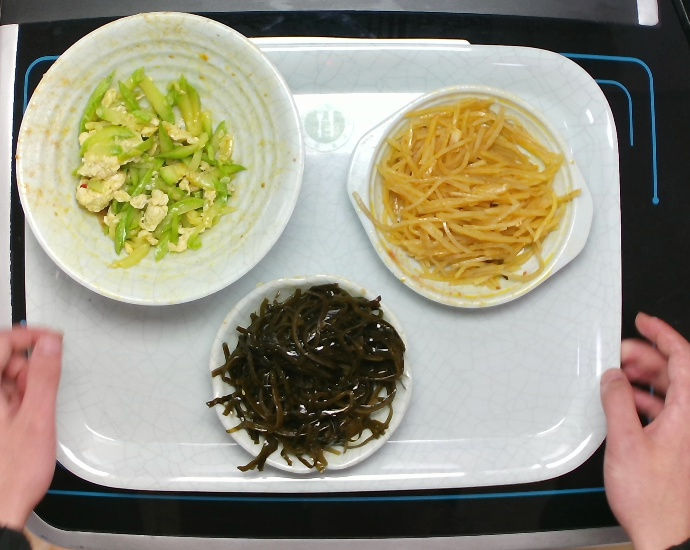JYsf-Ao_Yuan_Wan: (205, 271, 417, 485)
JYsf-Shuang_Er_Pan: (334, 82, 604, 320)
JYsf-Xiao_Tang_Wan: (3, 1, 311, 311)
